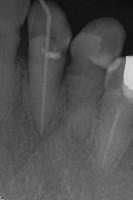Furcation Involvement: (32, 112, 66, 140), (70, 118, 93, 145)
